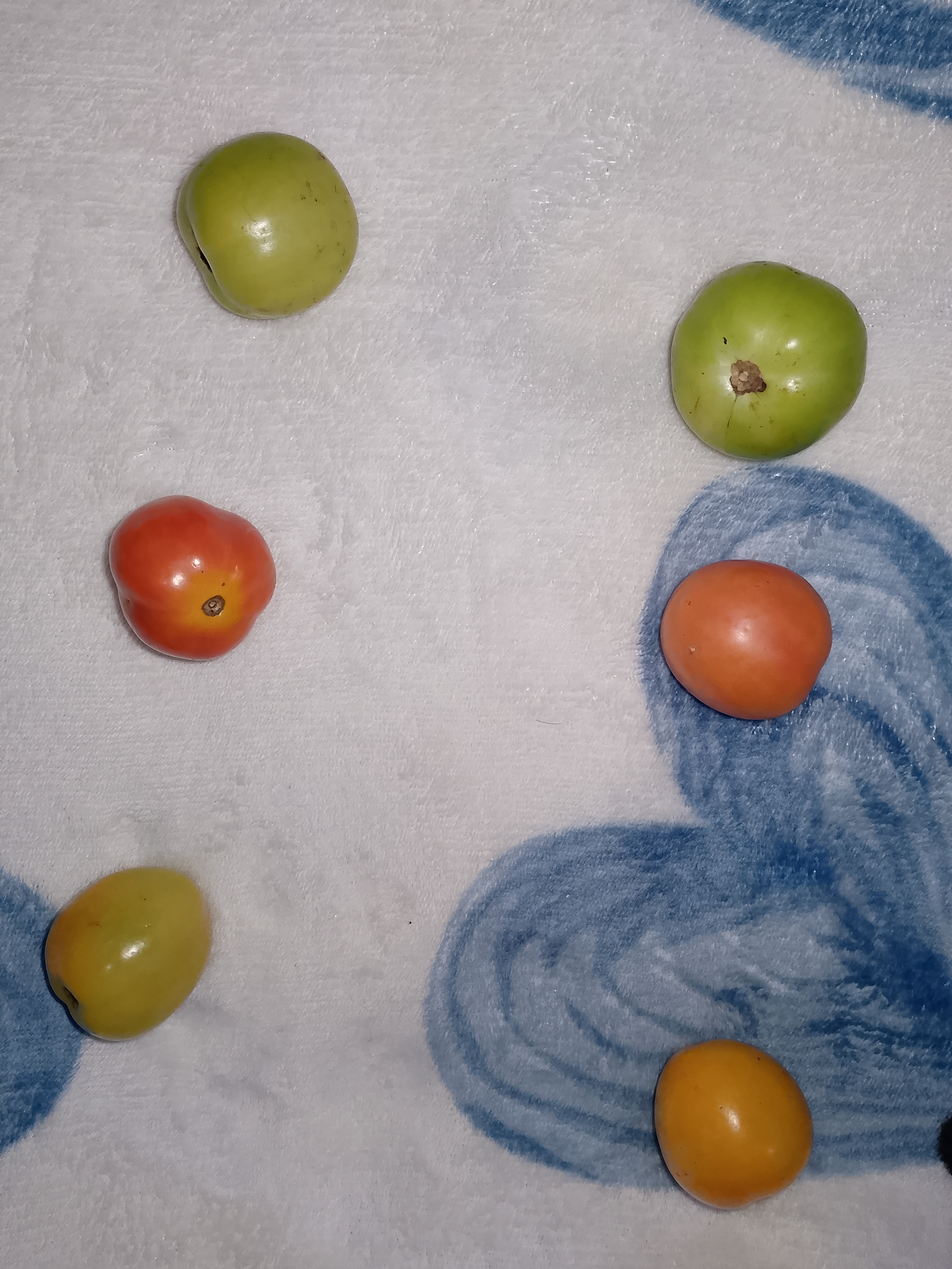Ripe: (589, 1020, 875, 1233), (80, 462, 304, 685), (633, 535, 857, 740)
Unripe: (657, 200, 903, 485), (135, 104, 410, 340), (23, 849, 236, 1048)
